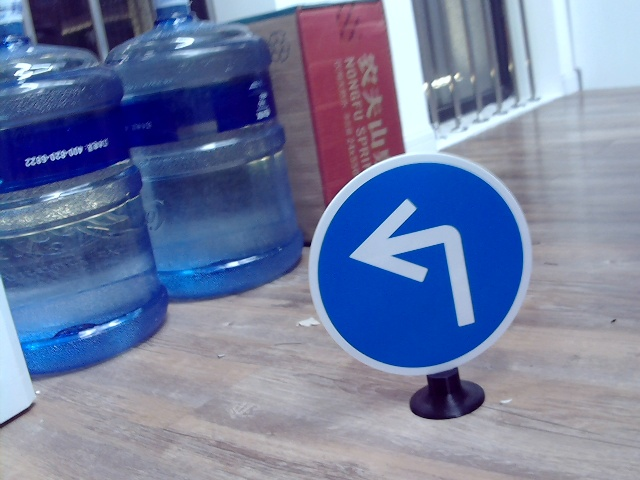turn_left: (357, 199, 476, 334)
